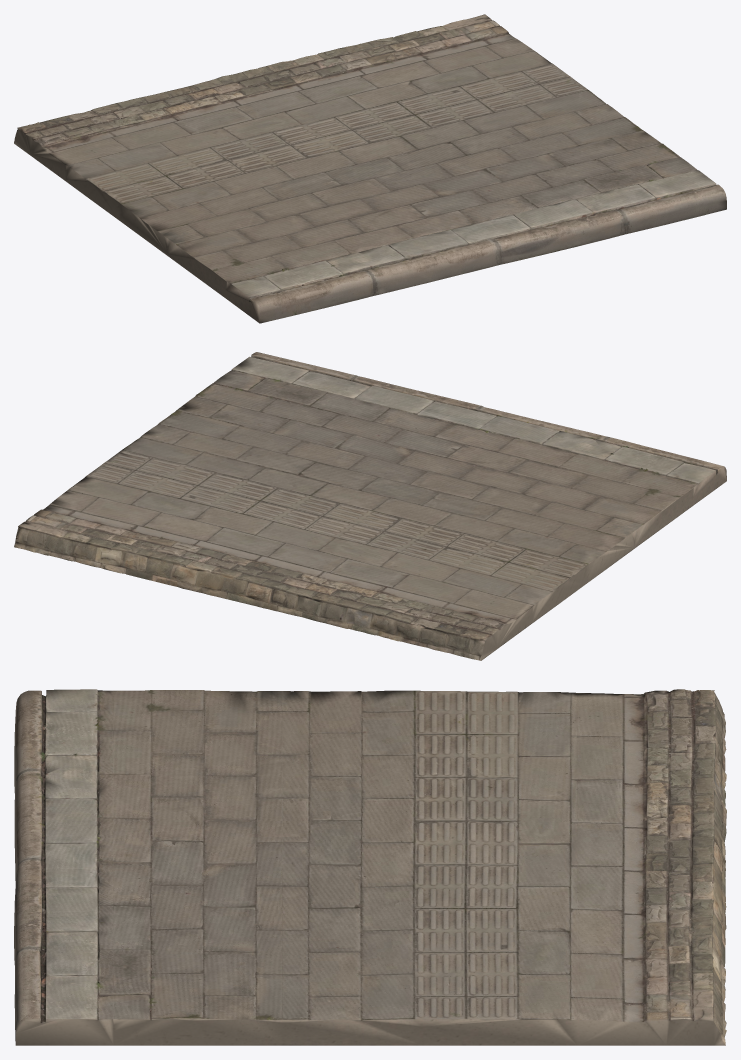
Rendered from PX_Sidewalk_02_LOD2.fbx.
The picture shows the model from 3 angles, top to bottom: view 1: azimuth 30°, elevation 25°; view 2: azimuth 150°, elevation 25°; view 3: azimuth 270°, elevation 25°; orthographic projection. The views are drawn at different scales.
Visible parts, largest first — view 1: PX_Sidewalk_02_LOD2; view 2: PX_Sidewalk_02_LOD2; view 3: PX_Sidewalk_02_LOD2.
Boxes of the visible parts, left/top/right/bottom form: PX_Sidewalk_02_LOD2: left=14, top=14, right=726, bottom=323; PX_Sidewalk_02_LOD2: left=14, top=352, right=726, bottom=660; PX_Sidewalk_02_LOD2: left=14, top=689, right=726, bottom=1045.
Size of the model in its own units: 271 by 11.76 by 249.
